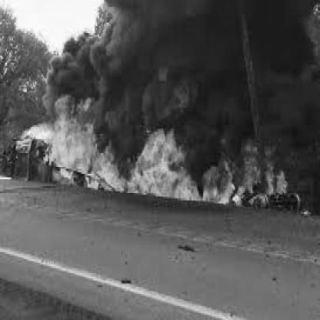Fire: (43, 91, 291, 207)
